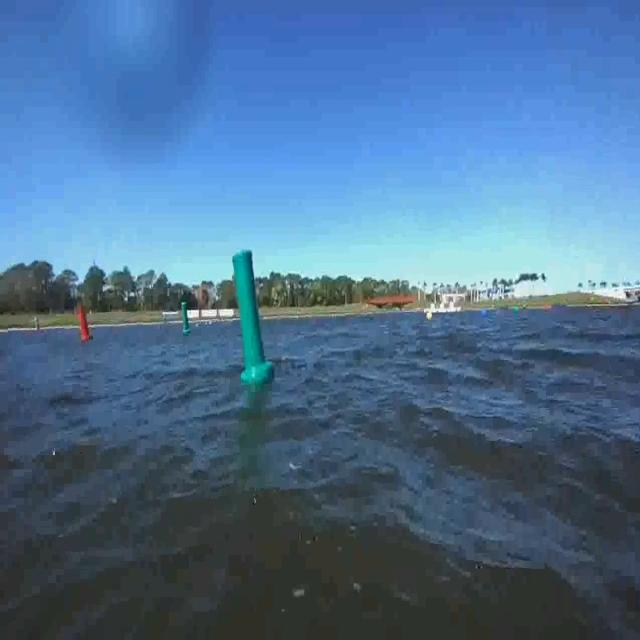blue-buoy: (481, 306, 488, 318)
green-column-buoy: (230, 246, 272, 386), (184, 304, 194, 337)
red-column-buoy: (76, 308, 92, 344)
yellow-buoy: (426, 310, 434, 322)
